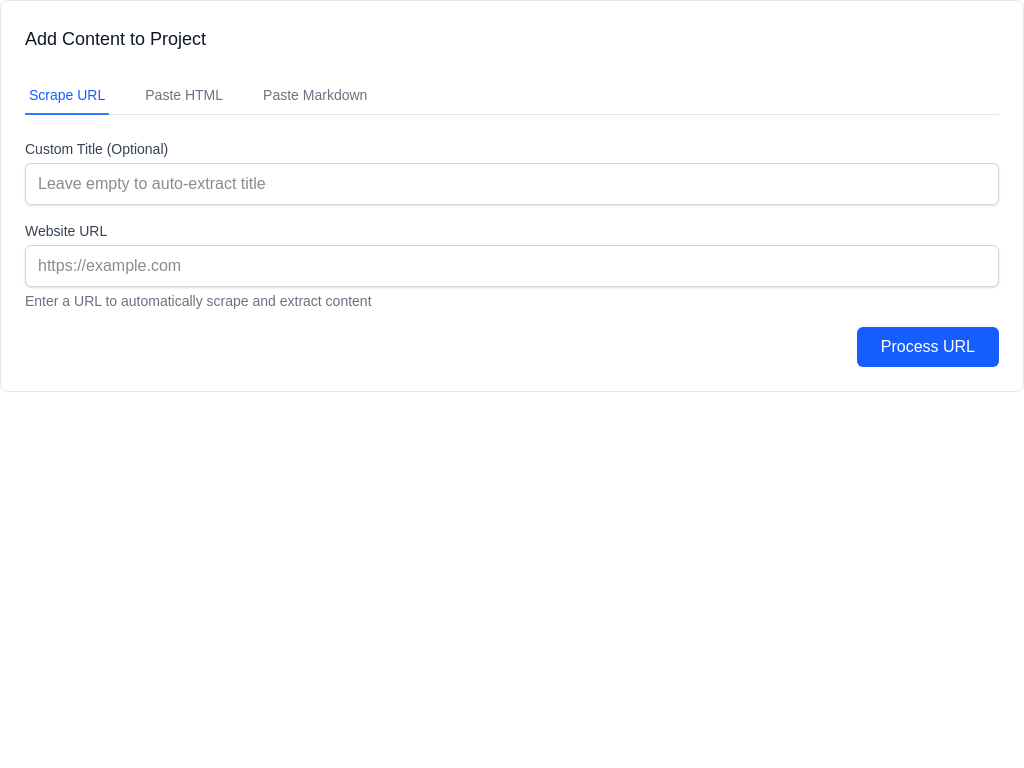
Test: ContentIngestionForm › should successfully process HTML content
# Switch to HTML tab
Click the button "Paste HTML" at (184, 96), box [141, 77, 227, 115]
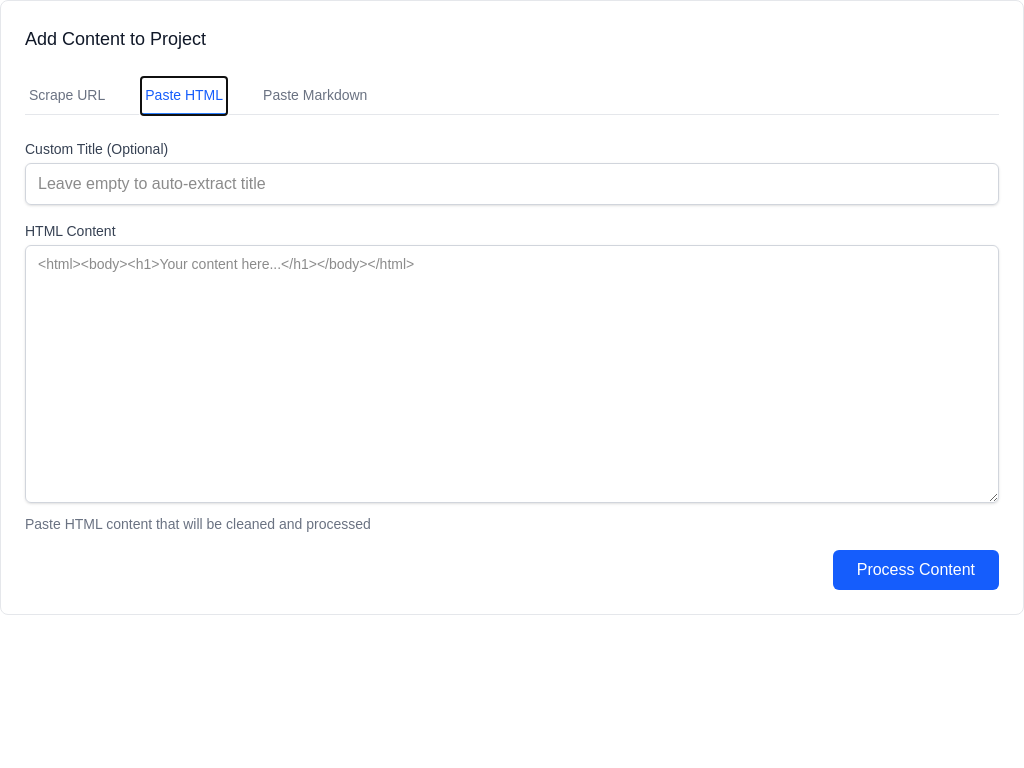
Type "<html><head><title>HTML Page</title></head><body><p>HTML content</p></body></html>" into the text box labelled "HTML Content" at (512, 374), box [25, 245, 999, 503]
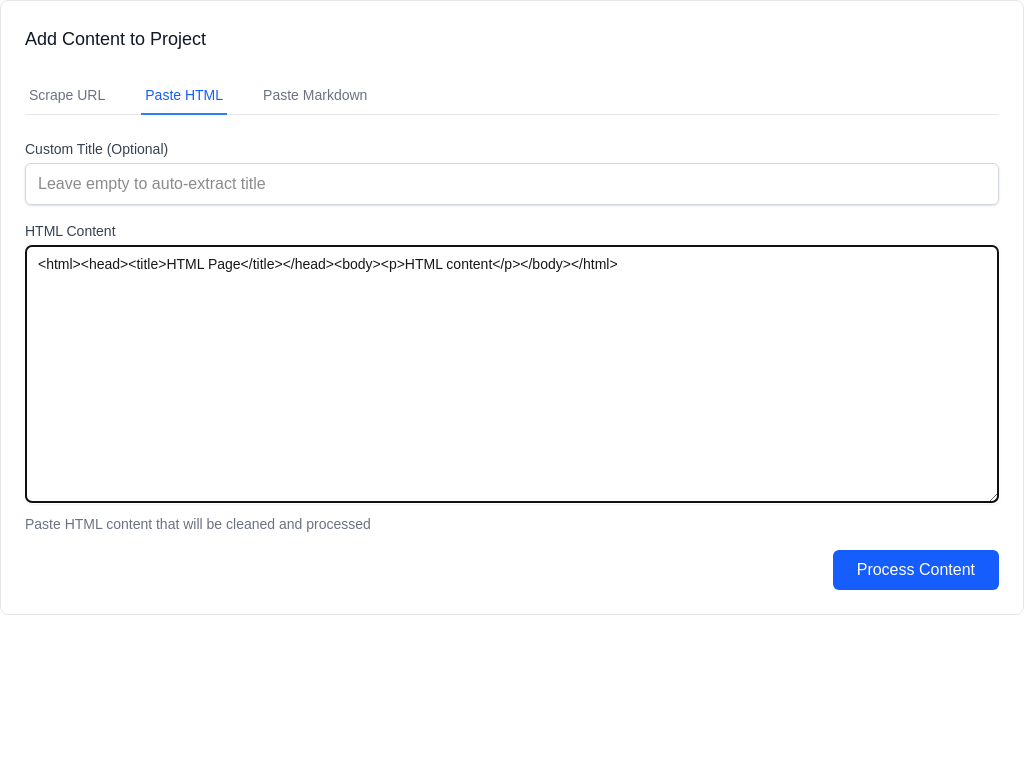
Click the button "Process Content" at (916, 570), box [833, 550, 999, 590]
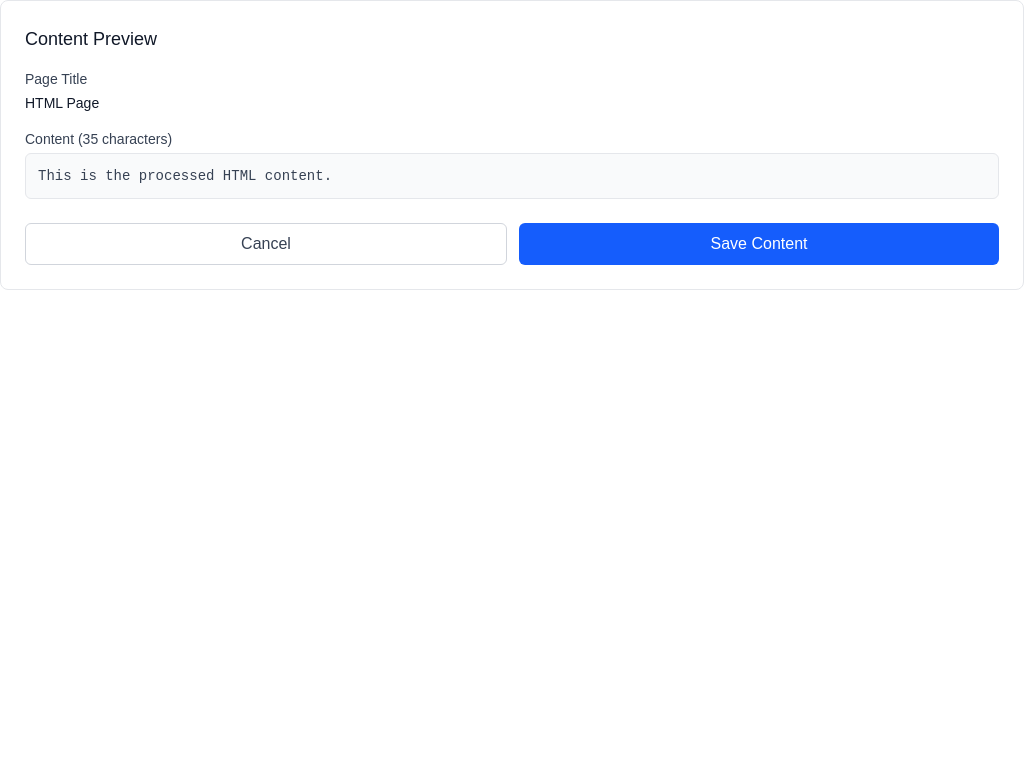
Check: the heading "Content Preview" is shown, box [25, 29, 157, 49]
Check: the text "HTML Page" is shown, box [25, 95, 99, 111]
Check: the text "This is the processed HTML content." is shown, box [38, 168, 332, 184]
